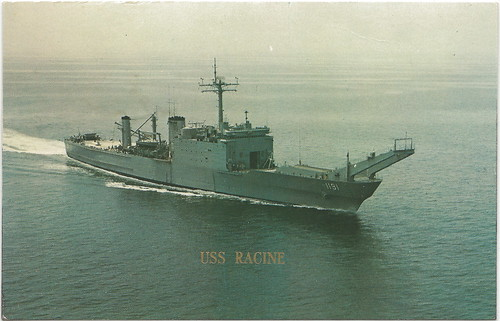boat: (45, 98, 418, 232)
sea: (1, 61, 493, 321)
sky: (8, 1, 495, 56)
